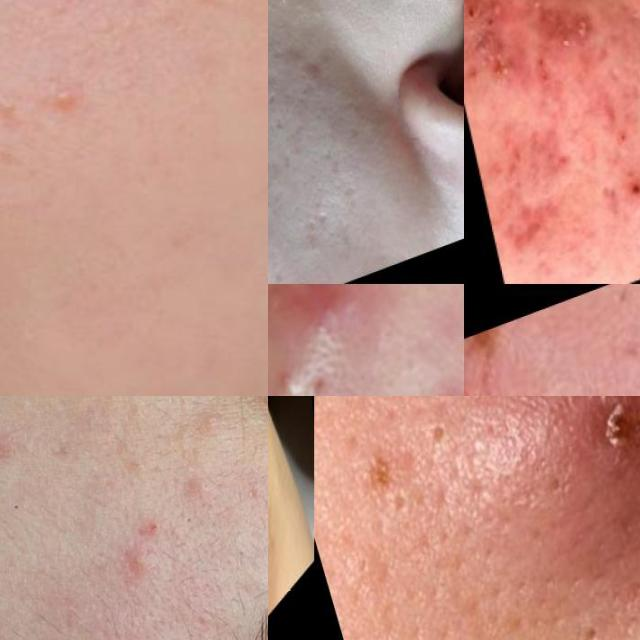acne_scars: (503, 212, 547, 268)
comedone: (40, 79, 100, 121), (0, 90, 20, 142), (178, 0, 237, 12), (273, 0, 299, 15)
cystic: (395, 396, 640, 640), (621, 0, 640, 16)
pustule: (268, 351, 318, 396)
sebo-crystan-conglo: (268, 284, 384, 368), (464, 27, 513, 91)
